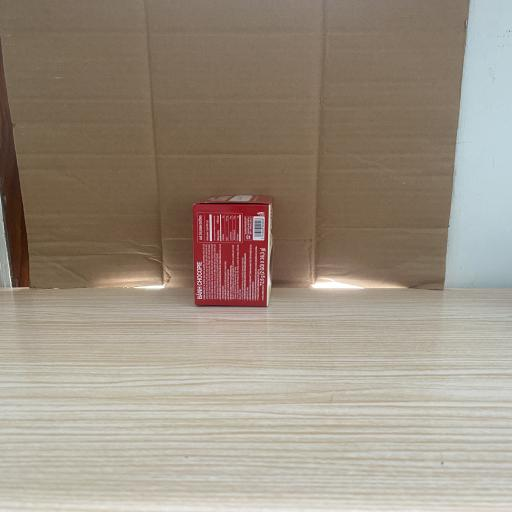chocopie: (192, 195, 273, 307)
